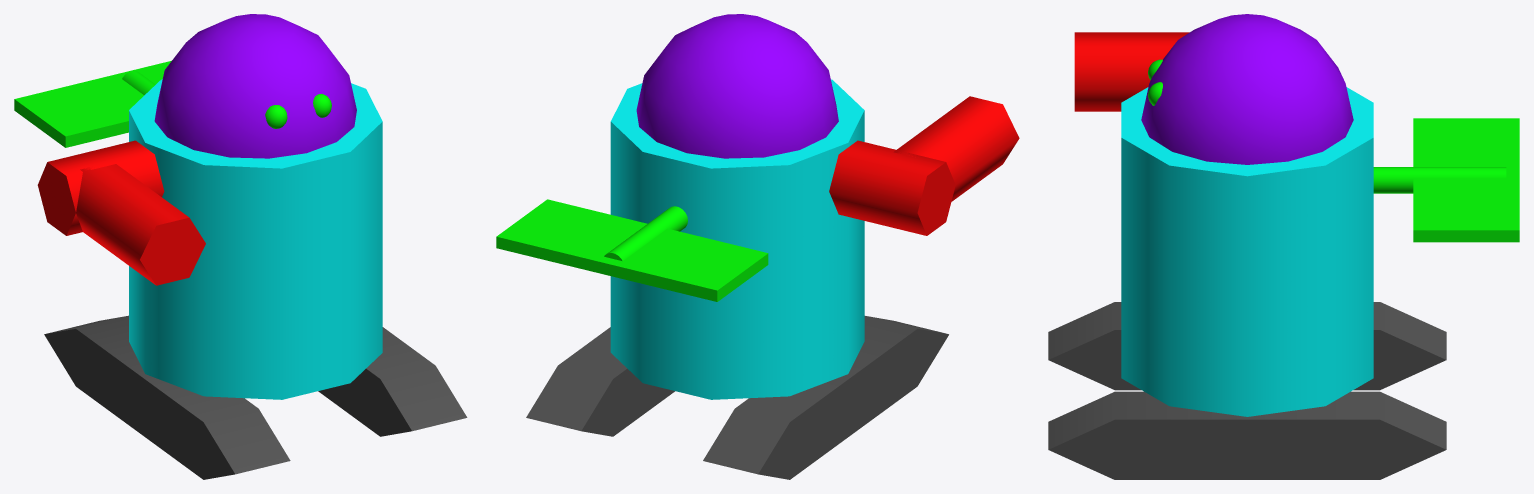
Rendered from Robot.FBX.
The picture shows the model from 3 angles, left to right: view 1: azimuth 30°, elevation 25°; view 2: azimuth 150°, elevation 25°; view 3: azimuth 270°, elevation 25°; orthographic projection. The views are drawn at different scales.
Parts seen in each view (by area): view 1: Body, Head, RightLeg, RightArm1, LeftLeg, Spring, RightArm0; view 2: Body, Head, RightLeg, Spring, RightArm0, LeftLeg, RightArm1; view 3: Body, LeftLeg, Head, Spring, RightLeg, RightArm1.
Part boxes in pixels (<box>): Body: <box>129,79,382,399</box>; Head: <box>154,14,356,158</box>; RightLeg: <box>44,315,290,479</box>; RightArm1: <box>76,164,205,285</box>; LeftLeg: <box>318,327,467,436</box>; Spring: <box>14,60,171,147</box>; RightArm0: <box>37,140,164,235</box>; Body: <box>610,79,864,399</box>; Head: <box>636,14,838,158</box>; RightLeg: <box>703,316,948,479</box>; Spring: <box>496,199,768,301</box>; RightArm0: <box>829,140,955,235</box>; LeftLeg: <box>526,327,674,436</box>; RightArm1: <box>893,96,1019,201</box>; Body: <box>1121,87,1373,416</box>; LeftLeg: <box>1048,391,1446,479</box>; Head: <box>1141,14,1353,164</box>; Spring: <box>1373,118,1519,242</box>; RightLeg: <box>1048,302,1446,390</box>; RightArm1: <box>1074,32,1189,111</box>.
Size of the model in its own units: 2.85 by 3.3 by 3.55.
